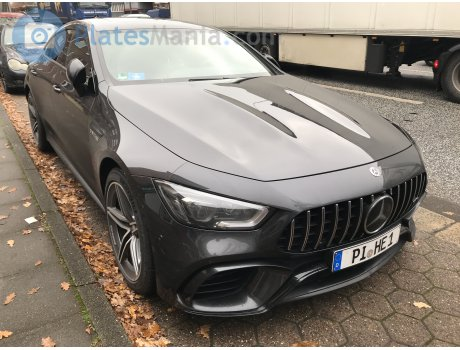License Plates: (341, 241, 409, 259)
